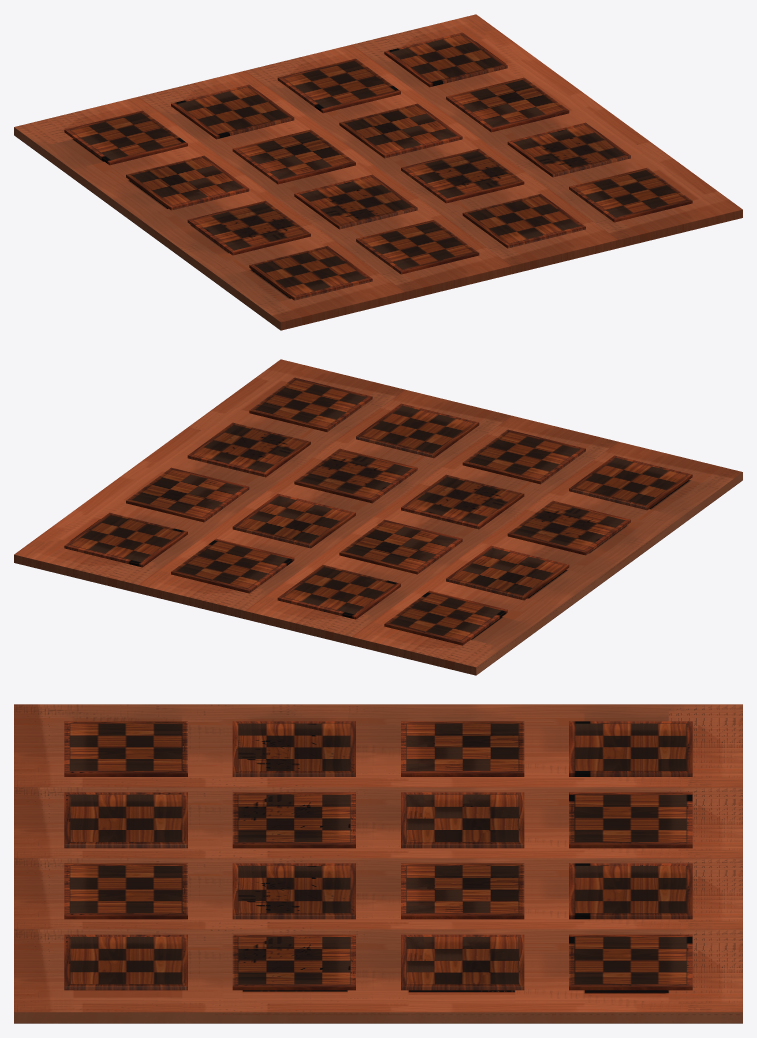
The model's file is Saphhia_Chess.fbx.
3 renders of one model, top to bottom at view 1: azimuth 30°, elevation 25°; view 2: azimuth 150°, elevation 25°; view 3: azimuth 270°, elevation 25°, orthographic. The views are drawn at different scales.
Parts seen in each view (by area): view 1: SapphiaBoard; view 2: SapphiaBoard; view 3: SapphiaBoard.
Boxes of the visible parts, <box> form: SapphiaBoard: <box>14,14,742,330</box>; SapphiaBoard: <box>14,359,742,675</box>; SapphiaBoard: <box>14,704,742,1023</box>.
Bounding box in the file's own units: 650 × 15.41 × 650.
